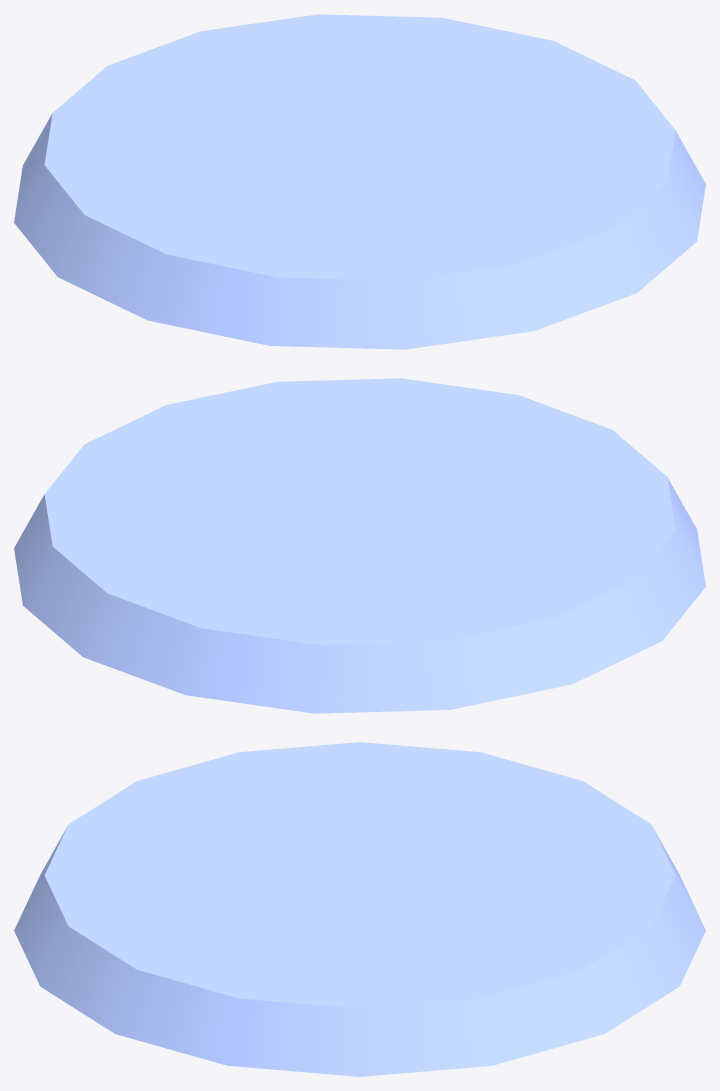
The model's file is hvergelmir-basin-pool.glb.
3 views of the same model, one above another, from view 1: azimuth 30°, elevation 25°; view 2: azimuth 150°, elevation 25°; view 3: azimuth 270°, elevation 25° (orthographic).
Visible parts, largest first — view 1: Hvergelmir Basin Pool; view 2: Hvergelmir Basin Pool; view 3: Hvergelmir Basin Pool.
Part boxes in pixels (box(x1,y1,x2,y2)): Hvergelmir Basin Pool: box(14, 14, 705, 349); Hvergelmir Basin Pool: box(14, 378, 705, 713); Hvergelmir Basin Pool: box(14, 742, 705, 1076).
Bounding box in the file's own units: 13.6 × 1.2 × 13.6.
